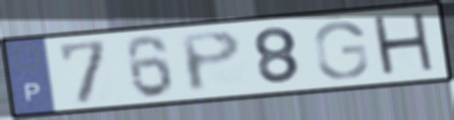6: (123, 33, 176, 102)
7: (54, 37, 110, 106)
8: (252, 26, 303, 86)
G: (311, 19, 372, 81)
H: (368, 9, 440, 80)
P: (176, 28, 246, 95)
